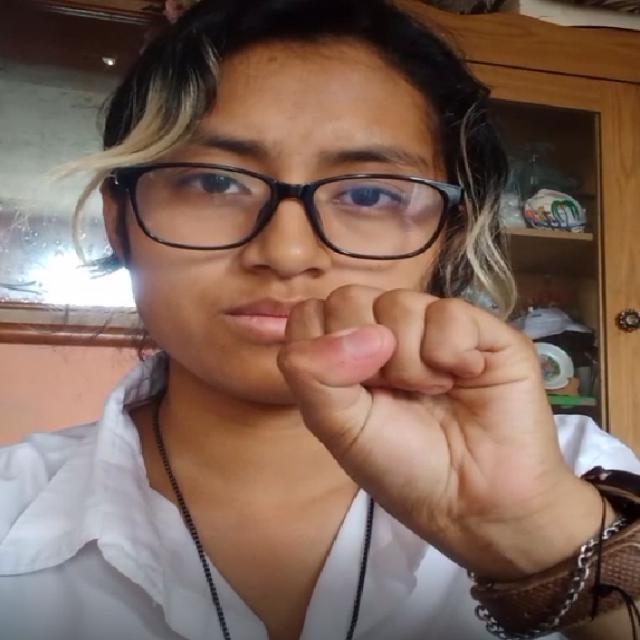S: (262, 279, 568, 547)
